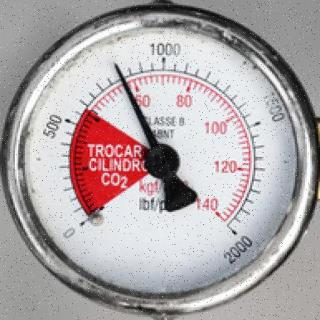gauge: (0, 0, 320, 320), (206, 209, 250, 251), (142, 142, 180, 180), (76, 202, 108, 230), (109, 58, 123, 74)
